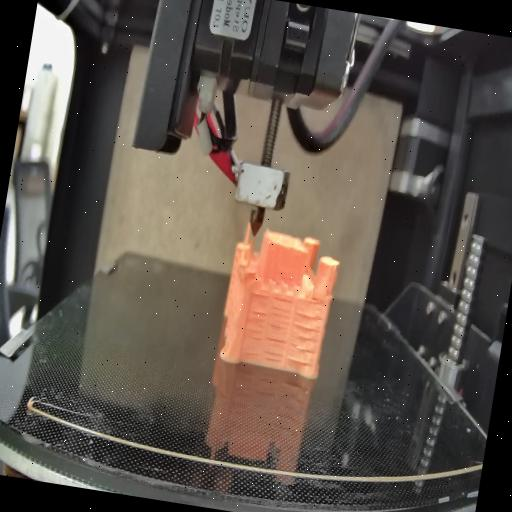cracks: (262, 297, 294, 365), (286, 310, 321, 366), (237, 306, 266, 358), (251, 288, 270, 300), (307, 288, 319, 306)
